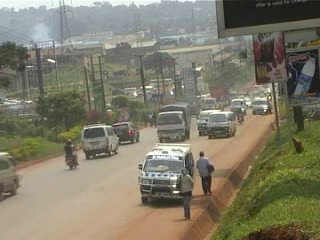Car: (110, 120, 141, 145), (243, 97, 251, 108)
Motorcycle: (62, 146, 79, 171), (233, 107, 244, 126)
